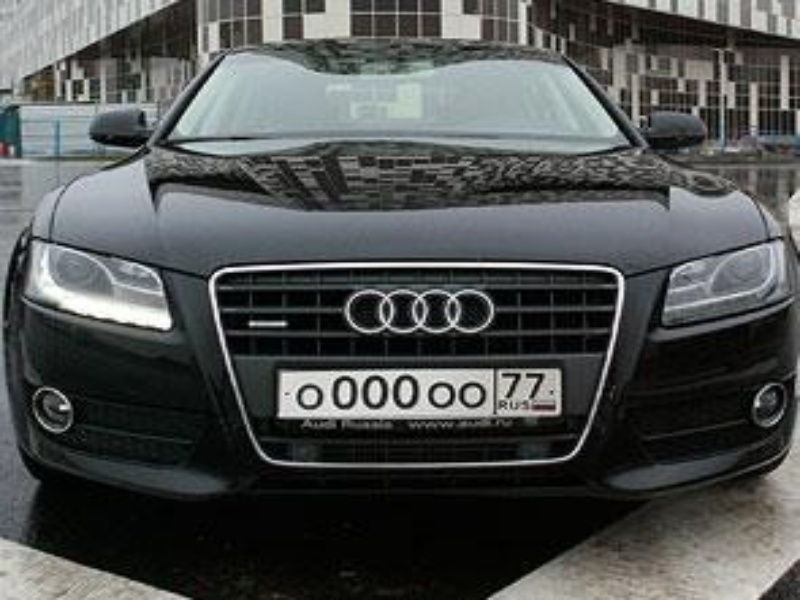car: (1, 39, 800, 500)
plate: (279, 371, 561, 418)
